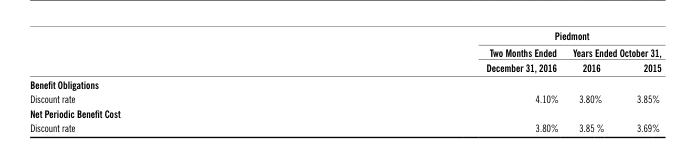table: (29, 28, 660, 133)
table column: (279, 28, 564, 133), (29, 28, 279, 133), (564, 28, 619, 133), (619, 28, 660, 133)
table column header: (29, 28, 660, 75)
table projected row header: (29, 75, 660, 91), (29, 105, 660, 120)
table row: (29, 43, 660, 59), (29, 59, 660, 75), (29, 75, 660, 91), (29, 28, 660, 43), (29, 105, 660, 120), (29, 91, 660, 105), (29, 120, 660, 133)
table spanning cell: (279, 43, 564, 75), (279, 28, 660, 43), (564, 43, 660, 59)
